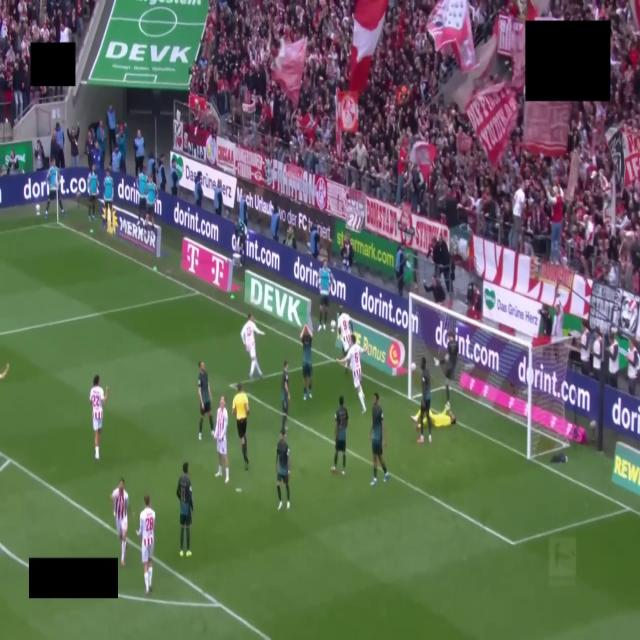player: (337, 334, 366, 413), (435, 331, 458, 407), (138, 495, 155, 595), (370, 393, 388, 486), (90, 375, 108, 460), (177, 463, 193, 557), (241, 314, 264, 379), (111, 479, 128, 566), (232, 384, 249, 470), (332, 396, 348, 475), (418, 357, 432, 443), (198, 361, 213, 439), (215, 396, 228, 483), (276, 427, 289, 510), (319, 260, 334, 330), (300, 325, 312, 399), (281, 360, 291, 428), (337, 313, 353, 355), (138, 166, 148, 224), (146, 174, 157, 224), (430, 408, 456, 428), (0, 364, 9, 379)
